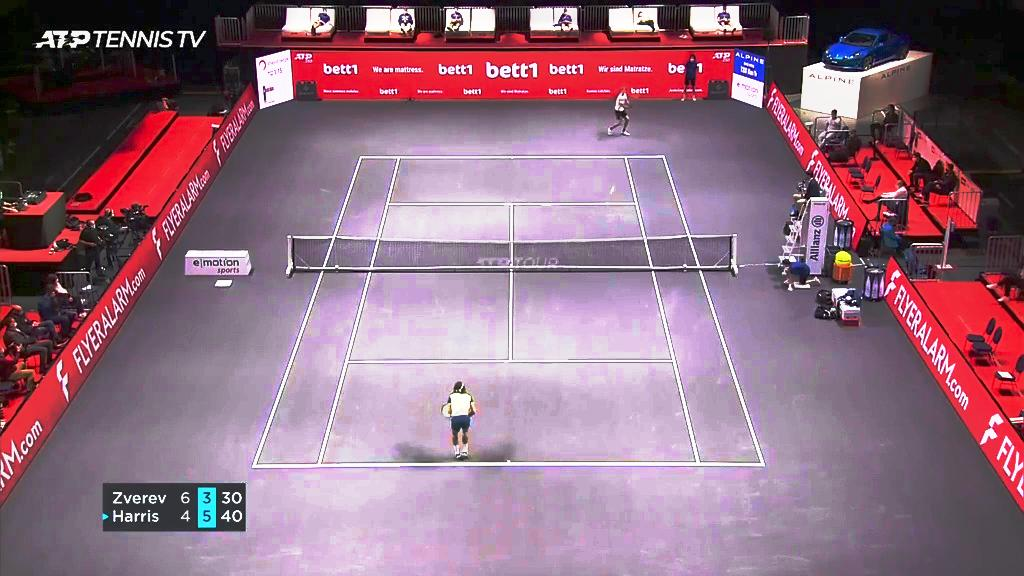tennis-court: (251, 156, 765, 468)
